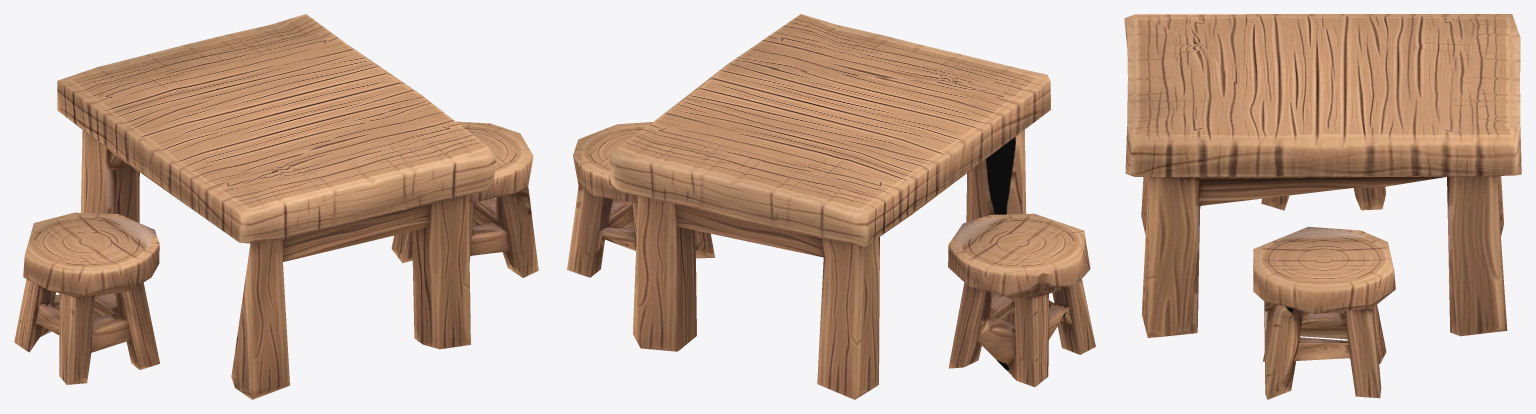
Rendered from inn-table.glb.
The picture shows the model from 3 angles, left to right: view 1: azimuth 30°, elevation 25°; view 2: azimuth 150°, elevation 25°; view 3: azimuth 270°, elevation 25°; orthographic projection. The views are drawn at different scales.
Visible parts, largest first — view 1: Mesh1.0; view 2: Mesh1.0; view 3: Mesh1.0.
Boxes of the visible parts, box(x1,y1,x2,y2) form: Mesh1.0: box(14, 14, 538, 399); Mesh1.0: box(567, 14, 1095, 399); Mesh1.0: box(1124, 14, 1521, 399).
Size of the model in its own units: 1.9 by 0.7363 by 1.26.
1 material, 1 textured.
